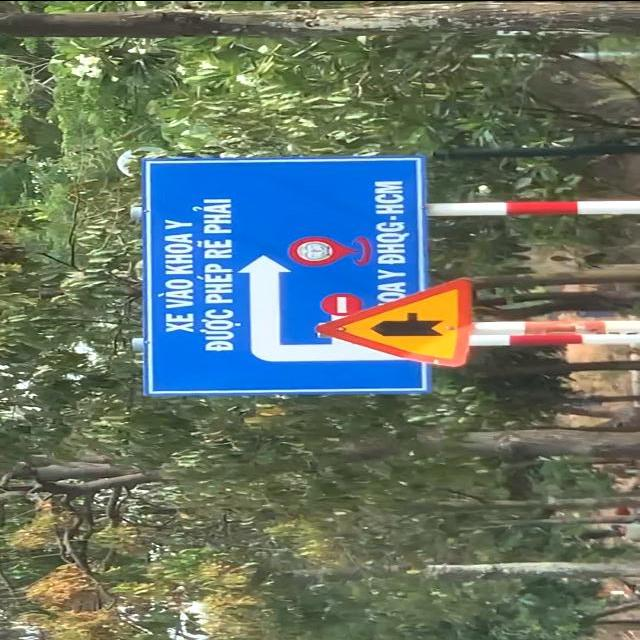W-207b: (318, 277, 474, 369)
